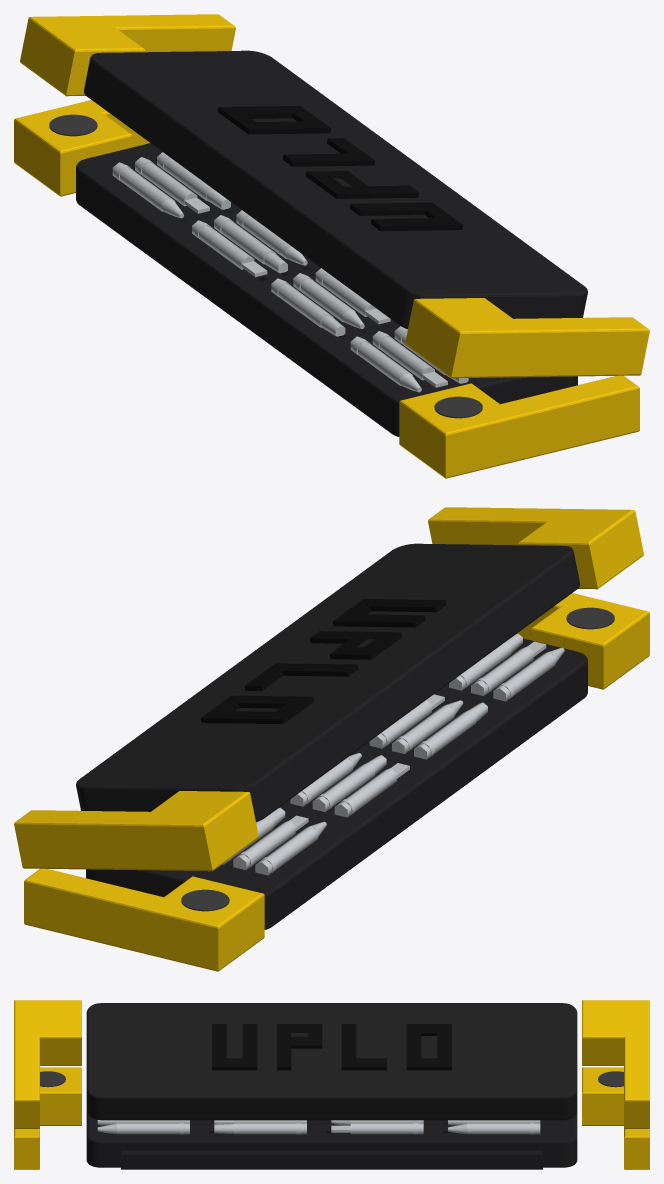
The model's file is set-puntas.glb.
3 views of the same model, one above another, from view 1: azimuth 30°, elevation 25°; view 2: azimuth 150°, elevation 25°; view 3: azimuth 270°, elevation 25° (orthographic). The views are drawn at different scales.
Parts seen in each view (by area): view 1: bandeja_tapa, marco_tapa, bandeja_base, marco_base, puntas_base, nombre_uplo, imanes_base; view 2: bandeja_tapa, marco_tapa, bandeja_base, marco_base, puntas_base, nombre_uplo, imanes_base; view 3: bandeja_tapa, marco_tapa, bandeja_base, bisagra, marco_base, nombre_uplo, puntas_base, imanes_base.
Part boxes in pixels (bbox=[...]): bandeja_tapa: bbox=[84, 50, 587, 329]; marco_tapa: bbox=[20, 14, 649, 378]; bandeja_base: bbox=[76, 143, 577, 436]; marco_base: bbox=[14, 100, 639, 478]; puntas_base: bbox=[112, 152, 468, 392]; nombre_uplo: bbox=[217, 106, 463, 231]; imanes_base: bbox=[49, 114, 482, 418]; bandeja_tapa: bbox=[76, 543, 579, 822]; marco_tapa: bbox=[14, 507, 643, 871]; bandeja_base: bbox=[86, 638, 587, 929]; marco_base: bbox=[24, 593, 649, 971]; puntas_base: bbox=[222, 633, 564, 875]; nombre_uplo: bbox=[200, 599, 446, 724]; imanes_base: bbox=[181, 607, 614, 911]; bandeja_tapa: bbox=[86, 1003, 577, 1120]; marco_tapa: bbox=[14, 1000, 649, 1128]; bandeja_base: bbox=[86, 1112, 577, 1167]; bisagra: bbox=[121, 1150, 542, 1169]; marco_base: bbox=[14, 1067, 649, 1169]; nombre_uplo: bbox=[212, 1024, 451, 1070]; puntas_base: bbox=[97, 1120, 540, 1134]; imanes_base: bbox=[40, 1071, 623, 1087].
Size of the model in its own units: 0.0536 by 0.036 by 0.196.
